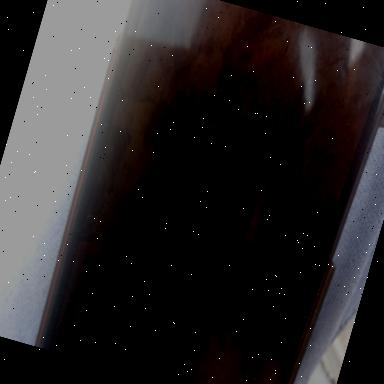pbw: (232, 195, 259, 250), (213, 44, 242, 94), (167, 297, 195, 345), (174, 250, 207, 288), (199, 184, 237, 214), (202, 220, 229, 260), (198, 259, 226, 295), (166, 205, 190, 243), (222, 255, 248, 288), (219, 216, 238, 260), (193, 201, 217, 234), (106, 239, 130, 272), (139, 228, 165, 256)
